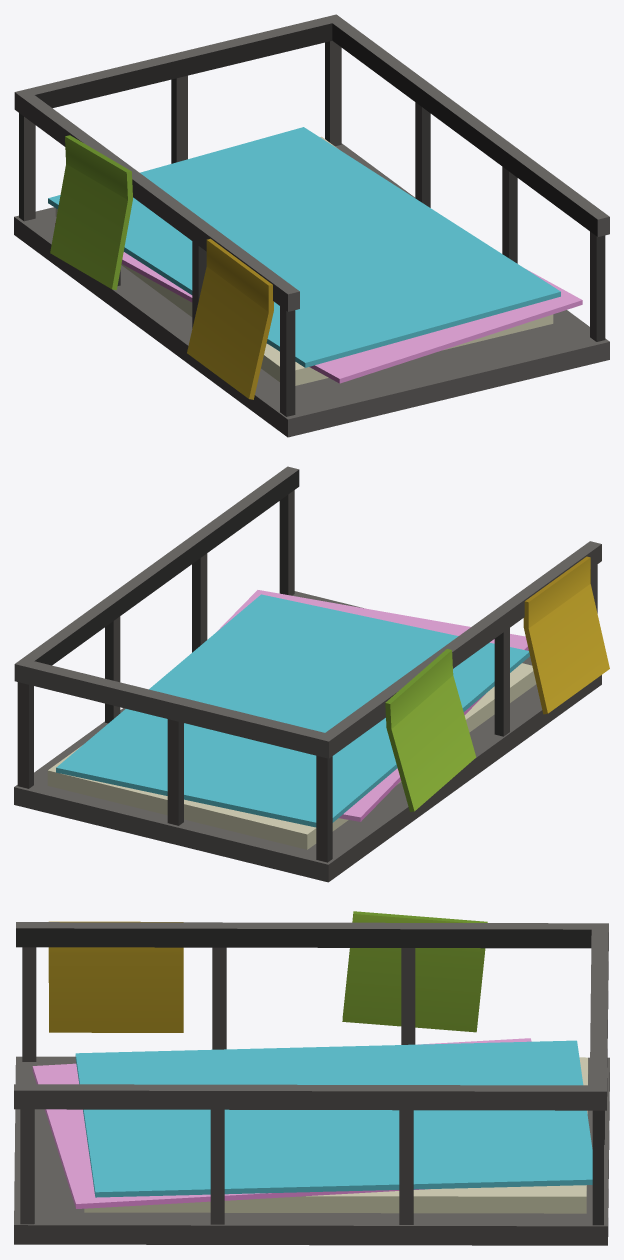
The model's file is SO_PaperTray_02.fbx.
3 views of the same model, one above another, from view 1: azimuth 30°, elevation 25°; view 2: azimuth 150°, elevation 25°; view 3: azimuth 270°, elevation 25° (orthographic). The views are drawn at different scales.
Visible parts, largest first — view 1: SO_PaperTray_02; view 2: SO_PaperTray_02; view 3: SO_PaperTray_02.
Part boxes in pixels (x1,y1,x2,y2): SO_PaperTray_02: (14,14,609,437); SO_PaperTray_02: (14,466,609,882); SO_PaperTray_02: (14,911,609,1245).
Bounding box in the file's own units: 0.6246 × 0.2595 × 0.8624.
